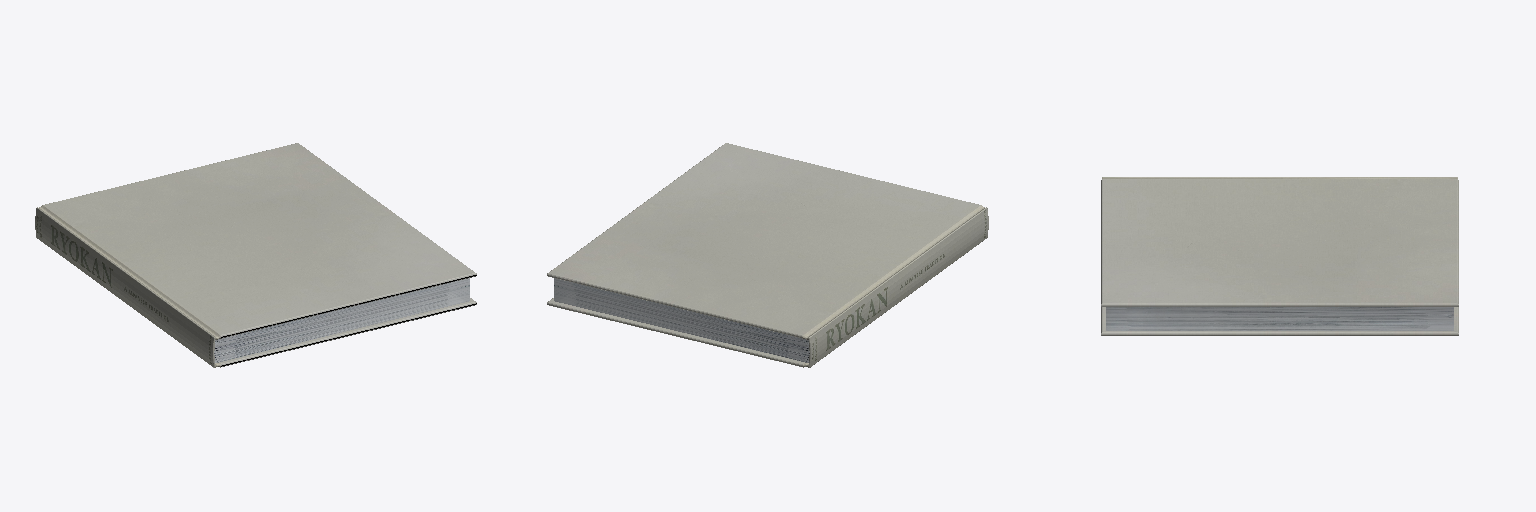
3 renders of one model, left to right at view 1: azimuth 30°, elevation 25°; view 2: azimuth 150°, elevation 25°; view 3: azimuth 270°, elevation 25°, orthographic.
Parts seen in each view (by area): view 1: Book; view 2: Book; view 3: Book.
Part boxes in pixels (bbox=[...]): Book: bbox=[35, 143, 476, 367]; Book: bbox=[547, 143, 988, 367]; Book: bbox=[1101, 177, 1458, 335].
Bounding box in the file's own units: 1.03 × 0.121 × 1.21.
1 materials, 1 textured.